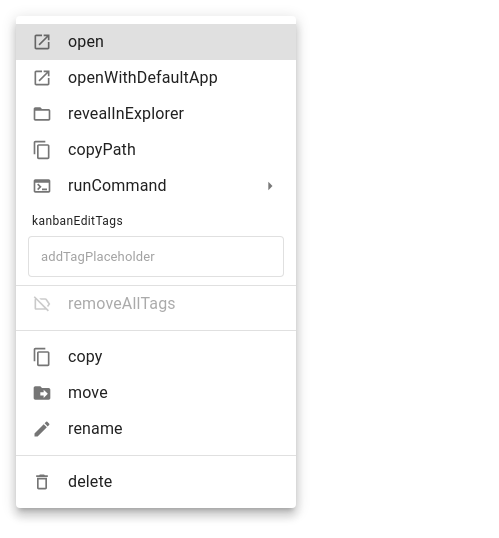
Test: EntryContextMenu #4: Commands flyout › opens the flyout on hover (mouseOver) and lists every applicable command
Hover over the menu item "runCommand".
mouse_move(156, 186)  # box [32,176,280,196]
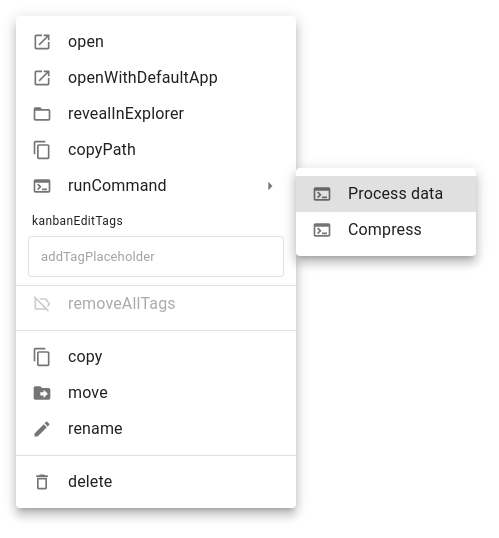
Check: the text "Process data" is shown, box [348,182,460,206]
Check: the text "Compress" is shown, box [348,220,422,239]
